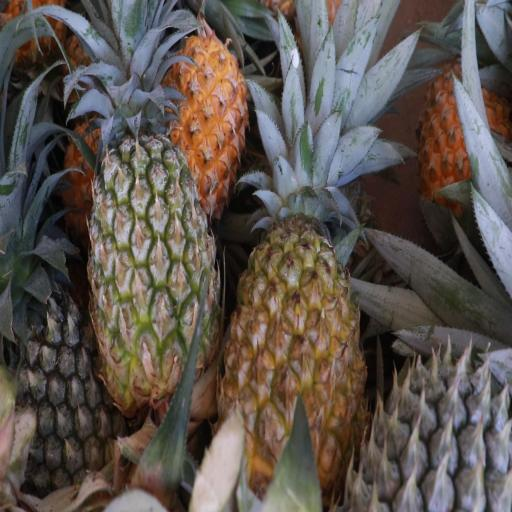------------------------------: (87, 125, 218, 403)
Pineapple - v8 v1: (222, 172, 364, 498), (103, 28, 248, 174), (411, 78, 502, 201)
